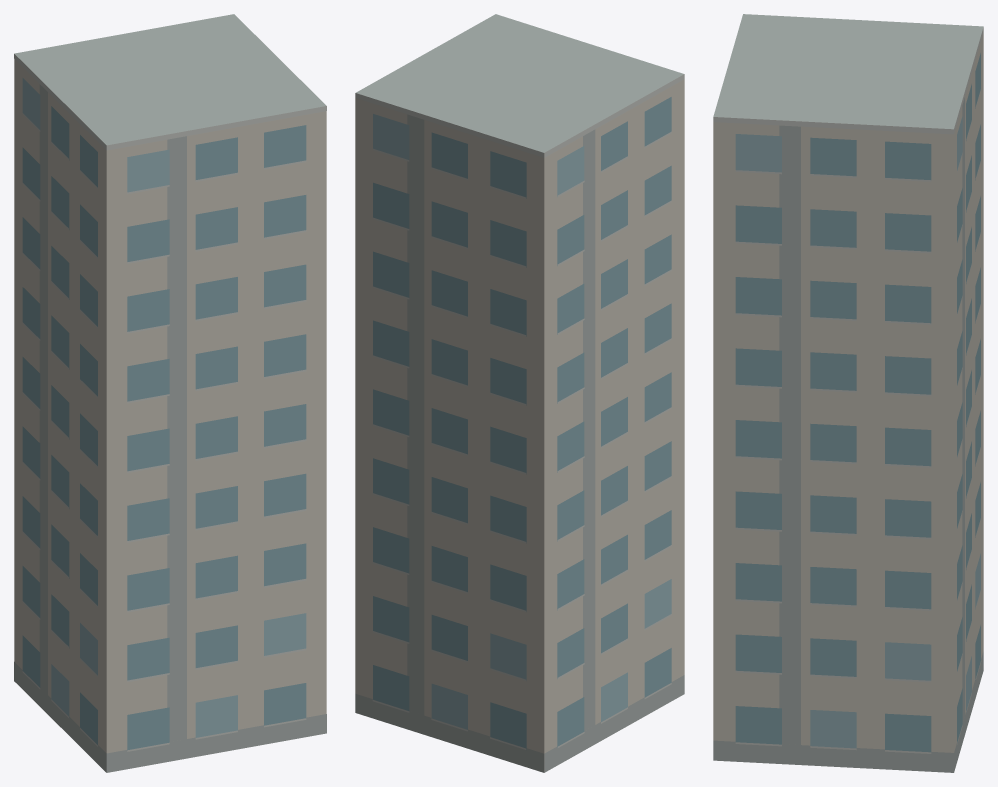
Rendered from residential-41667835-572a-4c4c-a461-c253faee9fc4.glb.
The picture shows the model from 3 angles, left to right: view 1: azimuth 30°, elevation 25°; view 2: azimuth 150°, elevation 25°; view 3: azimuth 270°, elevation 25°; orthographic projection. The views are drawn at different scales.
Parts seen in each view (by area): view 1: residential-41667835-572a-4c4c-a461-c253faee9fc4.tmp; view 2: residential-41667835-572a-4c4c-a461-c253faee9fc4.tmp; view 3: residential-41667835-572a-4c4c-a461-c253faee9fc4.tmp.
Boxes of the visible parts, left/top/right/bottom form: residential-41667835-572a-4c4c-a461-c253faee9fc4.tmp: left=14, top=14, right=326, bottom=772; residential-41667835-572a-4c4c-a461-c253faee9fc4.tmp: left=355, top=14, right=684, bottom=772; residential-41667835-572a-4c4c-a461-c253faee9fc4.tmp: left=713, top=14, right=983, bottom=772.
Bounding box in the file's own units: 11.53 × 30 × 11.43.
